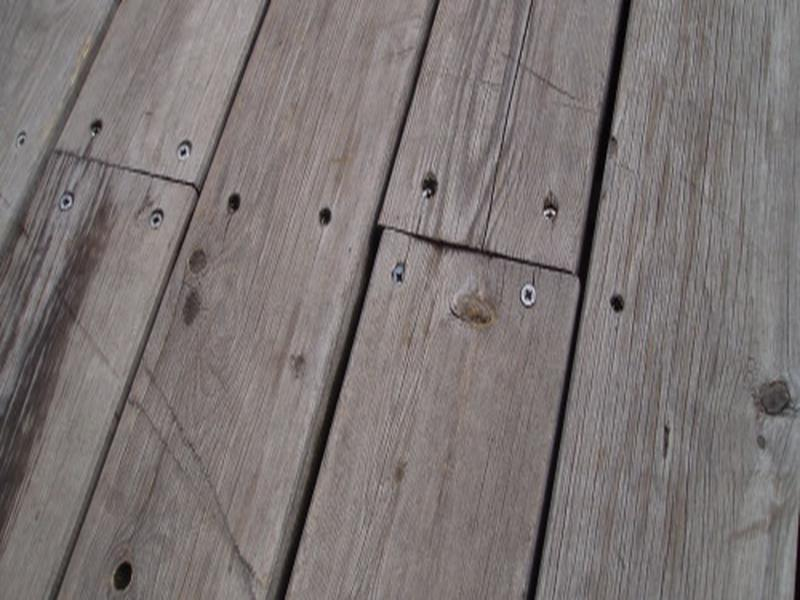hole: (112, 559, 136, 593)
screw: (518, 280, 539, 307), (390, 260, 409, 288), (175, 137, 194, 163), (225, 189, 243, 215), (147, 208, 167, 230), (57, 190, 76, 213), (87, 118, 106, 140), (541, 200, 559, 223), (418, 182, 438, 202), (317, 206, 335, 227), (15, 130, 31, 150)
